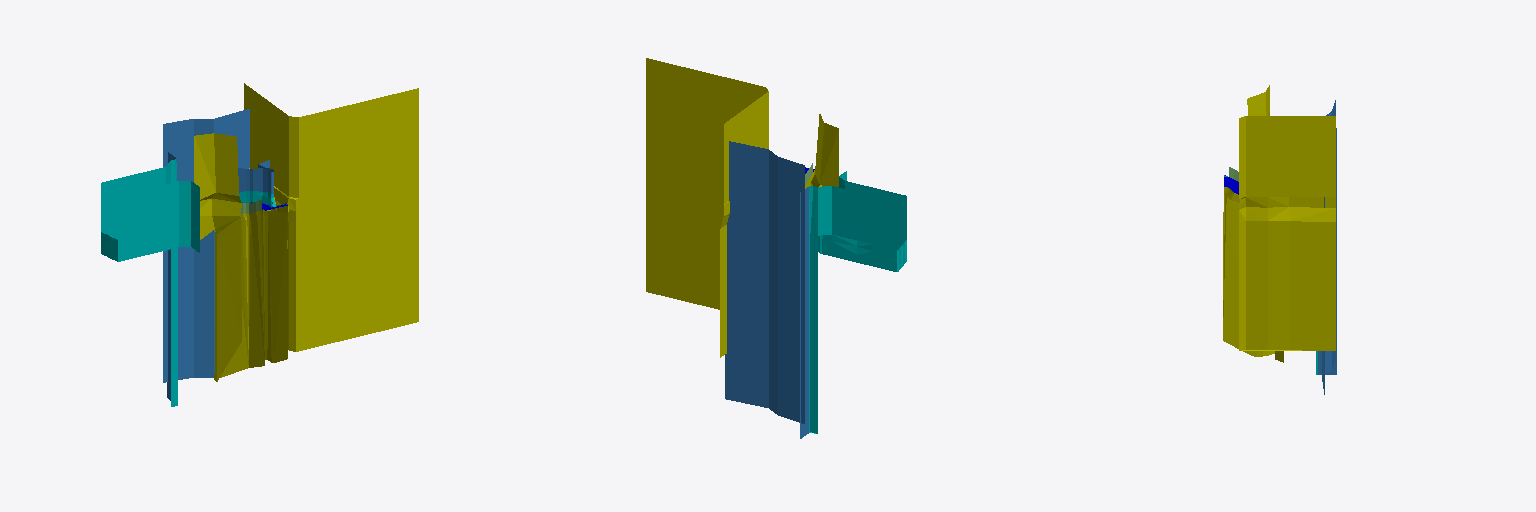
The model's file is STG0100_COLI_22.OBJ.
3 views of the same model, side by side, from view 1: azimuth 30°, elevation 25°; view 2: azimuth 150°, elevation 25°; view 3: azimuth 270°, elevation 25° (orthographic).
Visible parts, largest first — view 1: STG0100_COLI_22_[number redacted], STG0100_COLI_22_[number redacted], STG0100_COLI_22_[number redacted]; view 2: STG0100_COLI_22_[number redacted], STG0100_COLI_22_[number redacted], STG0100_COLI_22_[number redacted]; view 3: STG0100_COLI_22_[number redacted], STG0100_COLI_22_[number redacted].
Part boxes in pixels (x1,y1,x2,y2): STG0100_COLI_22_[number redacted]: (194, 83, 418, 381); STG0100_COLI_22_[number redacted]: (163, 109, 273, 400); STG0100_COLI_22_[number redacted]: (101, 159, 287, 406); STG0100_COLI_22_[number redacted]: (646, 58, 838, 357); STG0100_COLI_22_[number redacted]: (725, 141, 808, 438); STG0100_COLI_22_[number redacted]: (809, 171, 906, 433); STG0100_COLI_22_[number redacted]: (1223, 85, 1335, 362); STG0100_COLI_22_[number redacted]: (1318, 100, 1336, 394).
Size of the model in its own units: 2002 by 1993 by 696.